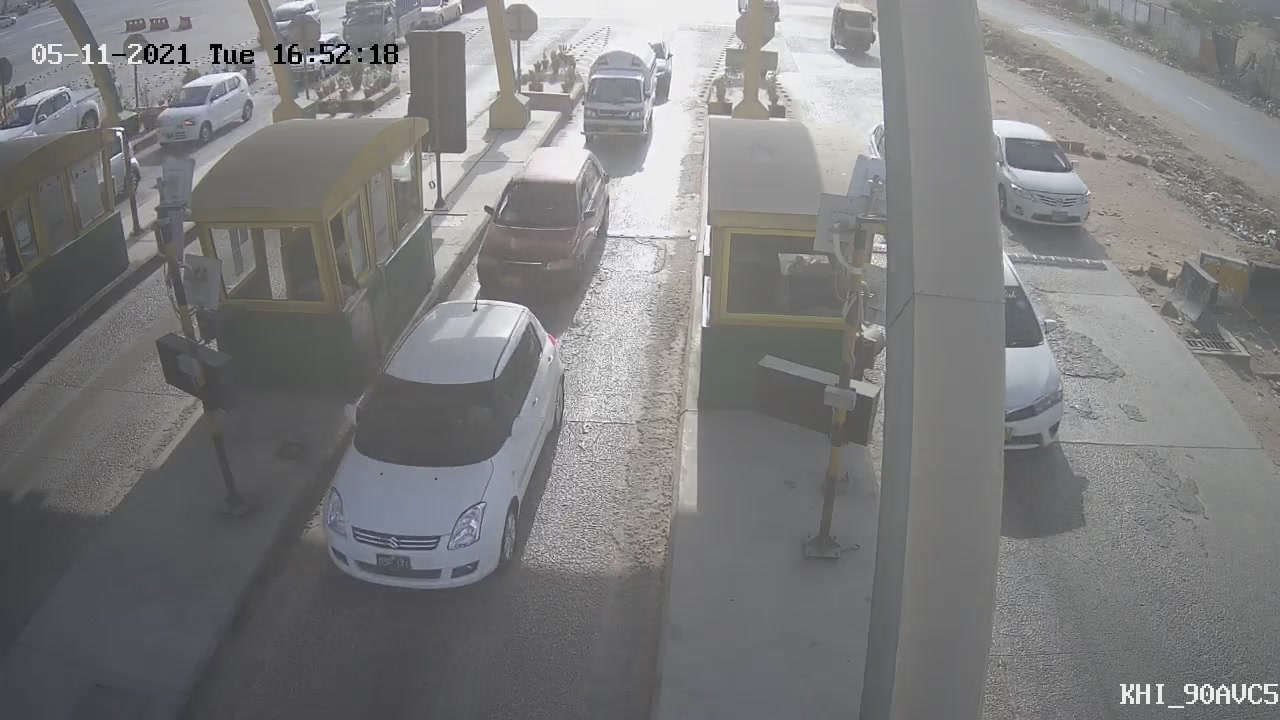F1: (291, 283, 573, 597), (466, 141, 614, 311), (565, 25, 673, 161)
